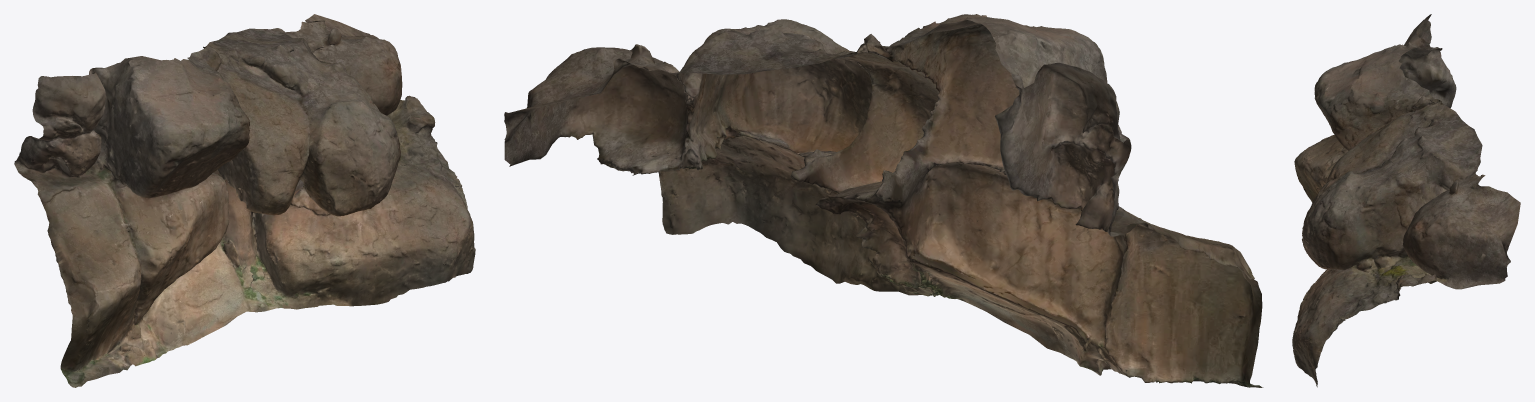
Rendered from cliff2.glb.
3 renders of one model, left to right at view 1: azimuth 30°, elevation 25°; view 2: azimuth 150°, elevation 25°; view 3: azimuth 270°, elevation 25°, orthographic. The views are drawn at different scales.
Visible parts, largest first — view 1: drone_rock_01; view 2: drone_rock_01; view 3: drone_rock_01.
Part boxes in pixels (x1,y1,x2,y2): drone_rock_01: (14,14,475,387); drone_rock_01: (504,14,1263,387); drone_rock_01: (1292,14,1520,387).
Bounding box in the file's own units: 8.28 × 4.96 × 4.39.
1 material, 1 textured.
